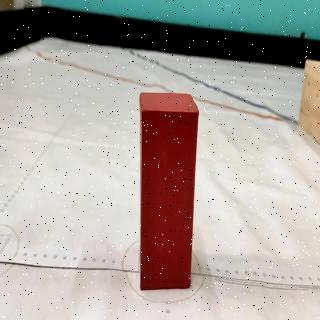redbox: (140, 91, 200, 292)
